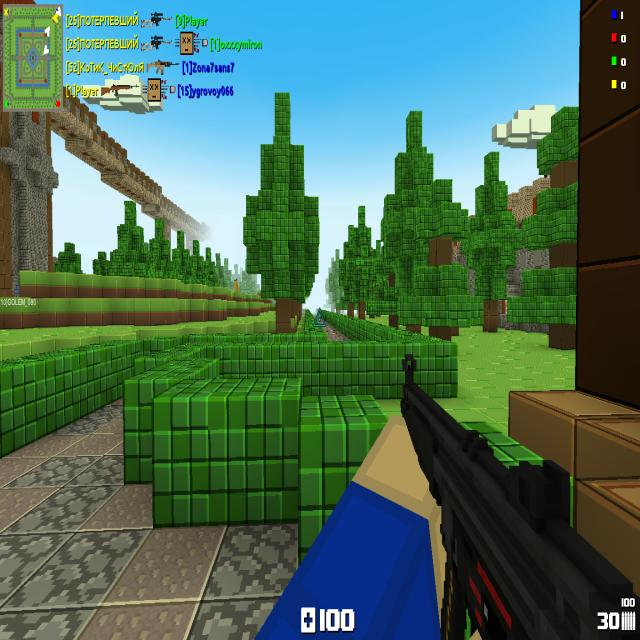enemy: (234, 279, 238, 293)
